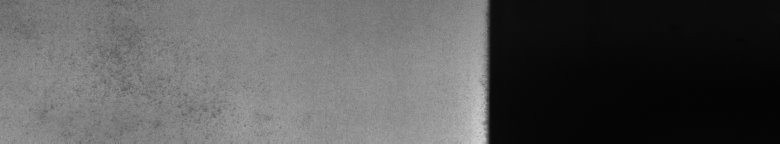ib: (44, 4, 224, 128)
